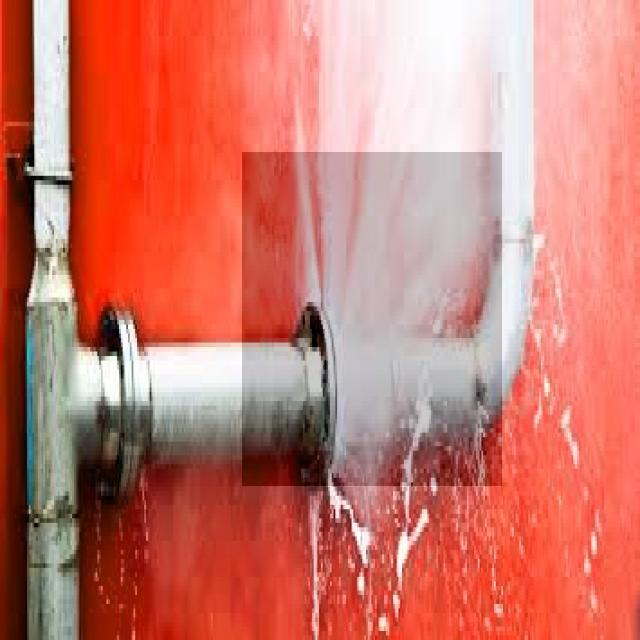corrosion: (236, 153, 488, 475)
